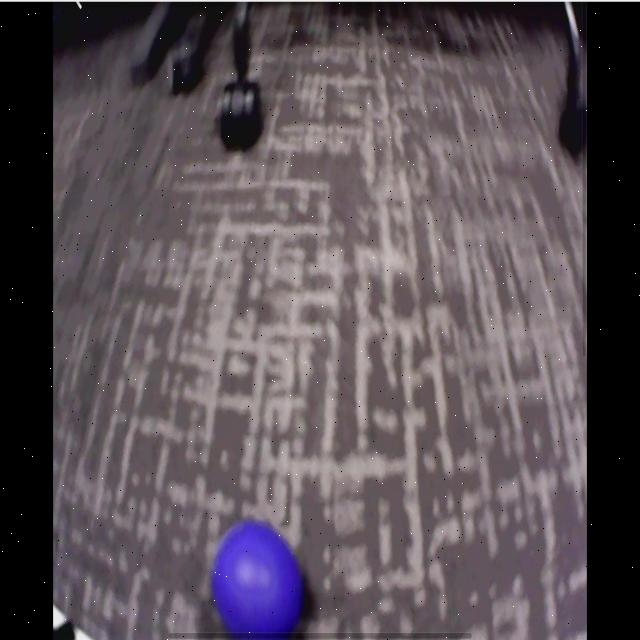ball: (214, 522, 305, 639)
